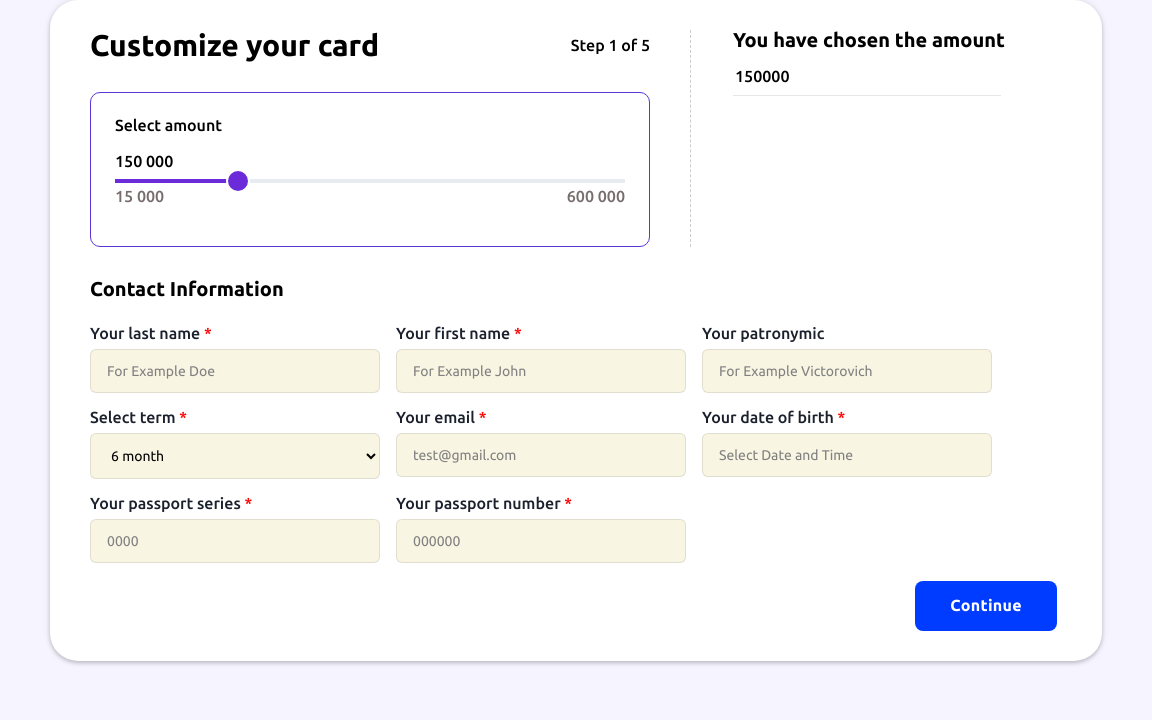
Scenario: CustomizeCardForm — Prescoring › показывает ошибки при сабмите пустой формы
Click the button "Continue".
click(986, 606)  # box [915, 581, 1057, 631]
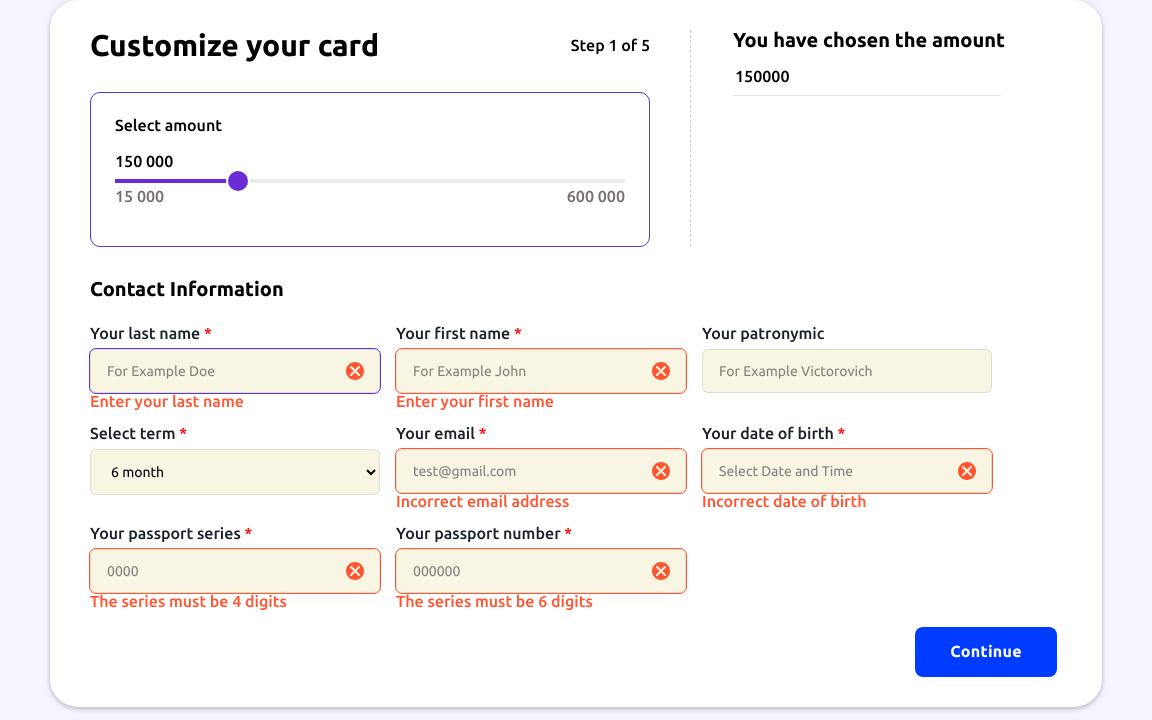
Result: the text "Enter your last name" is shown at [90, 392, 244, 410]
Result: the text "Enter your first name" is shown at [396, 392, 554, 410]
Result: the text "Incorrect email address" is shown at [396, 492, 569, 510]
